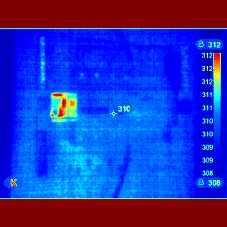Less: (67, 110, 76, 120)
